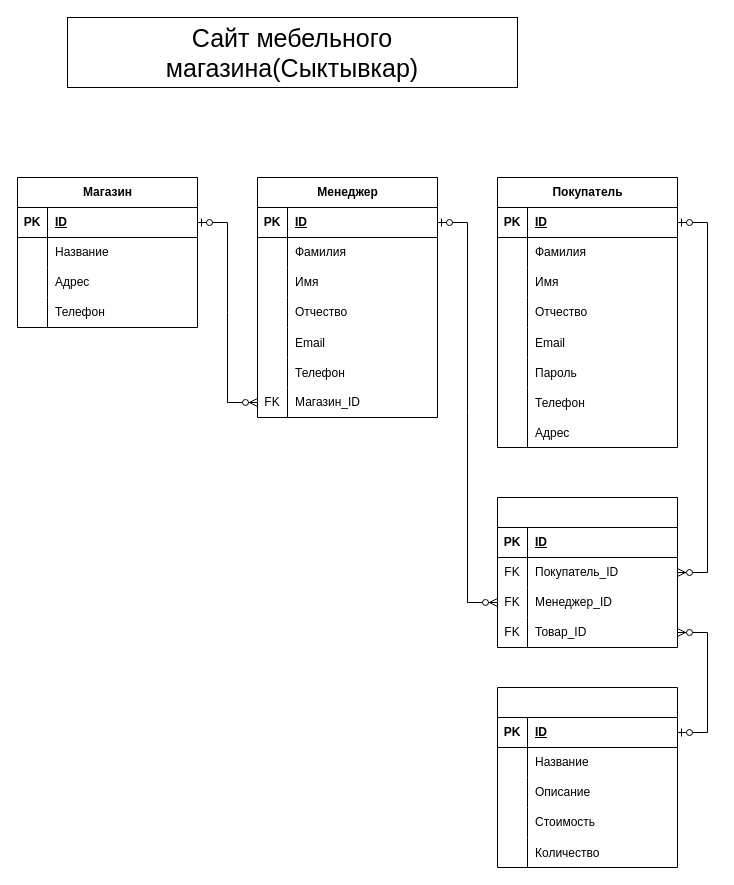
This 734x885 diagram has some shape labels left out. The box of each missing label's shape, as (x1, y1, x2, y2) in pixels:
Продажа: (496, 496, 678, 648)
Товар: (496, 686, 678, 868)
